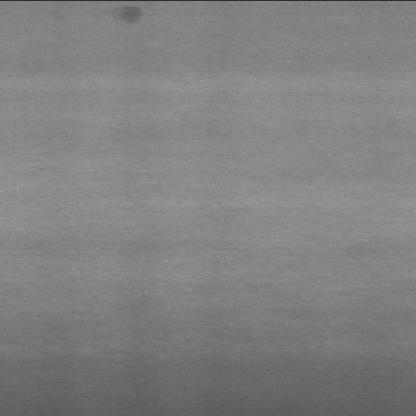oil_spot: (107, 5, 148, 24)
